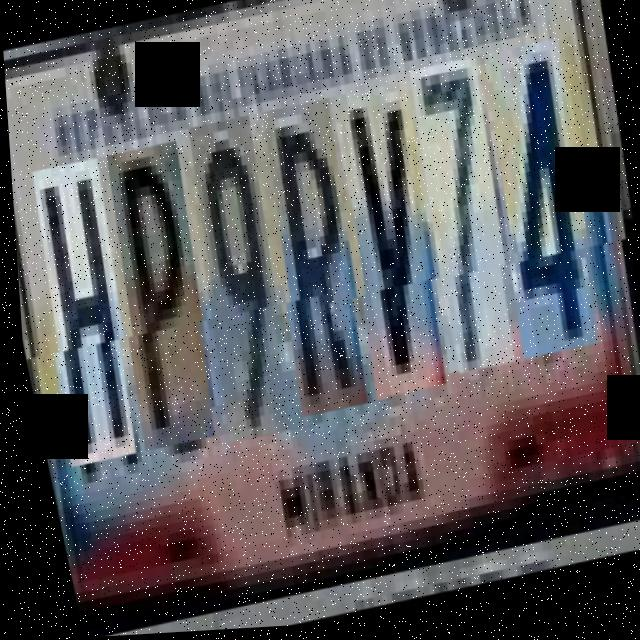4: (469, 45, 618, 367)
7: (395, 62, 534, 382)
9: (173, 117, 309, 446)
H: (18, 157, 155, 469)
P: (92, 142, 233, 453)
R: (248, 101, 387, 421)
V: (322, 85, 466, 406)
